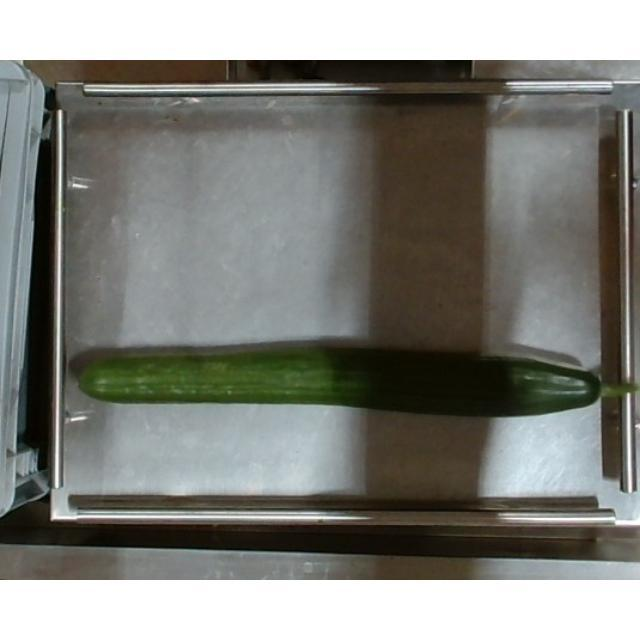cucumber: (76, 346, 640, 422)
